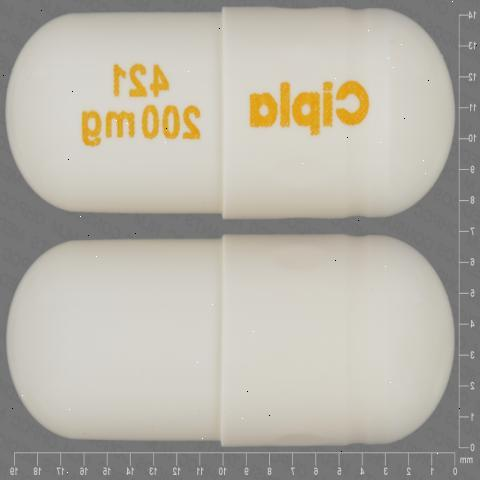Pill: (1, 224, 466, 452), (5, 7, 461, 215)
